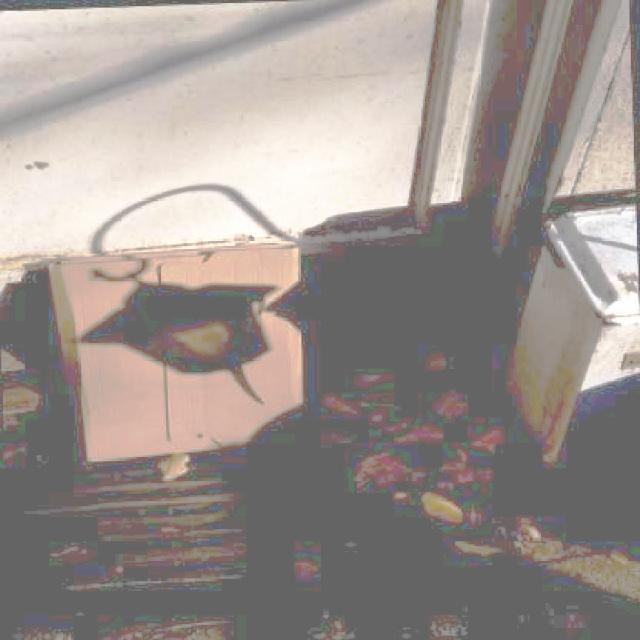Box: (49, 242, 306, 463)
